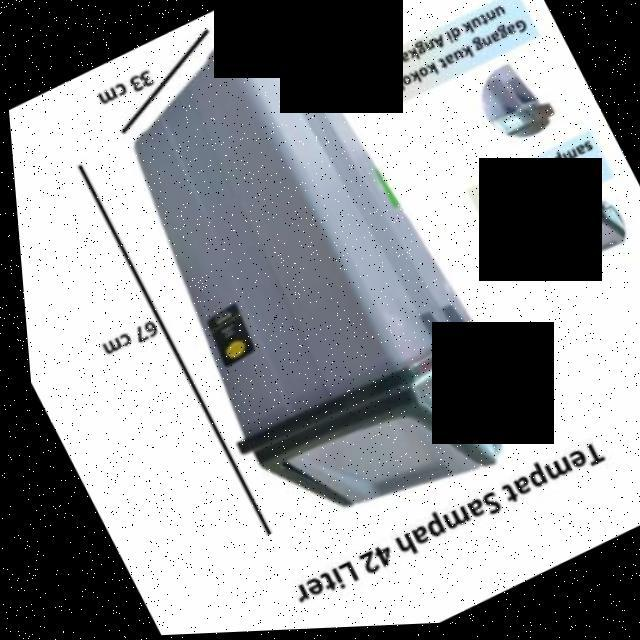bin: (47, 0, 556, 578)
